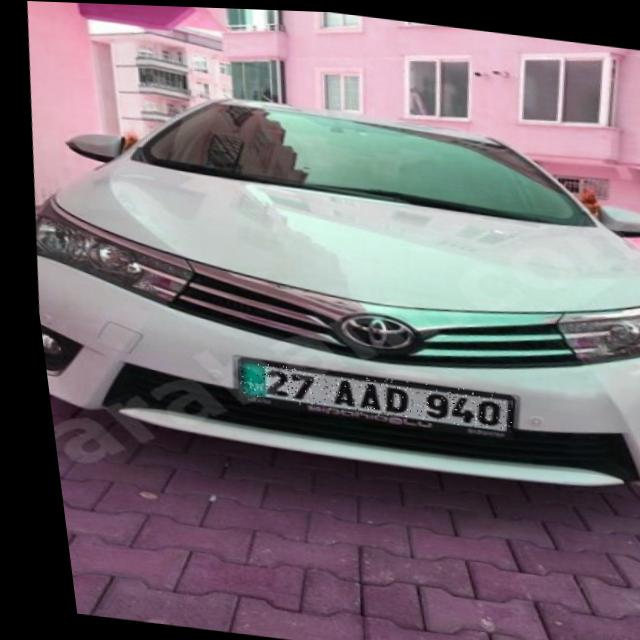license_plate: (226, 359, 505, 428)
